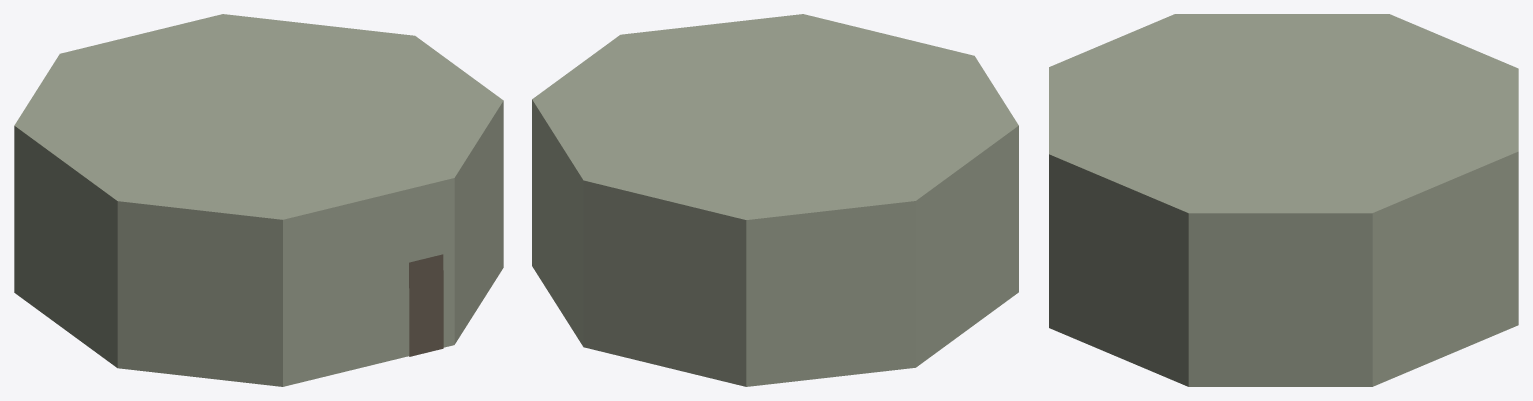
Rendered from loin-etape-1.glb.
The picture shows the model from 3 angles, left to right: view 1: azimuth 30°, elevation 25°; view 2: azimuth 150°, elevation 25°; view 3: azimuth 270°, elevation 25°; orthographic projection. The views are drawn at different scales.
Parts seen in each view (by area): view 1: loin; view 2: loin; view 3: loin.
Part boxes in pixels (<box>): loin: <box>14,14,503,386</box>; loin: <box>532,14,1018,386</box>; loin: <box>1049,14,1518,386</box>.
Bounding box in the file's own units: 0.7816 × 0.3179 × 0.7819.
